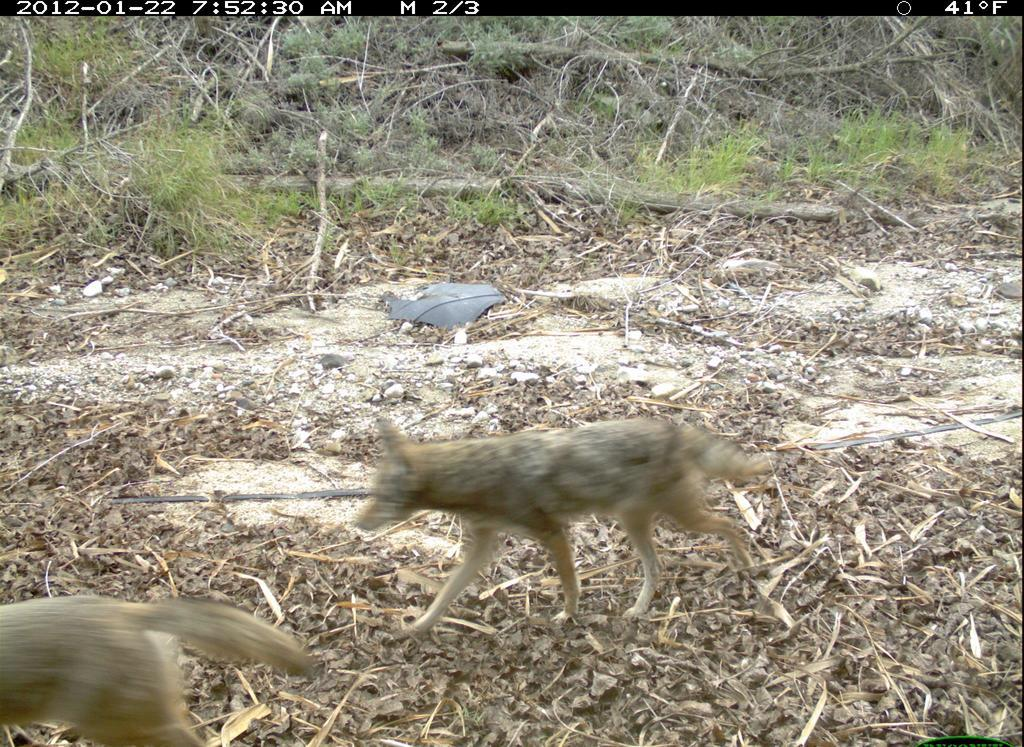coyote: (356, 404, 781, 639), (1, 573, 329, 747)
